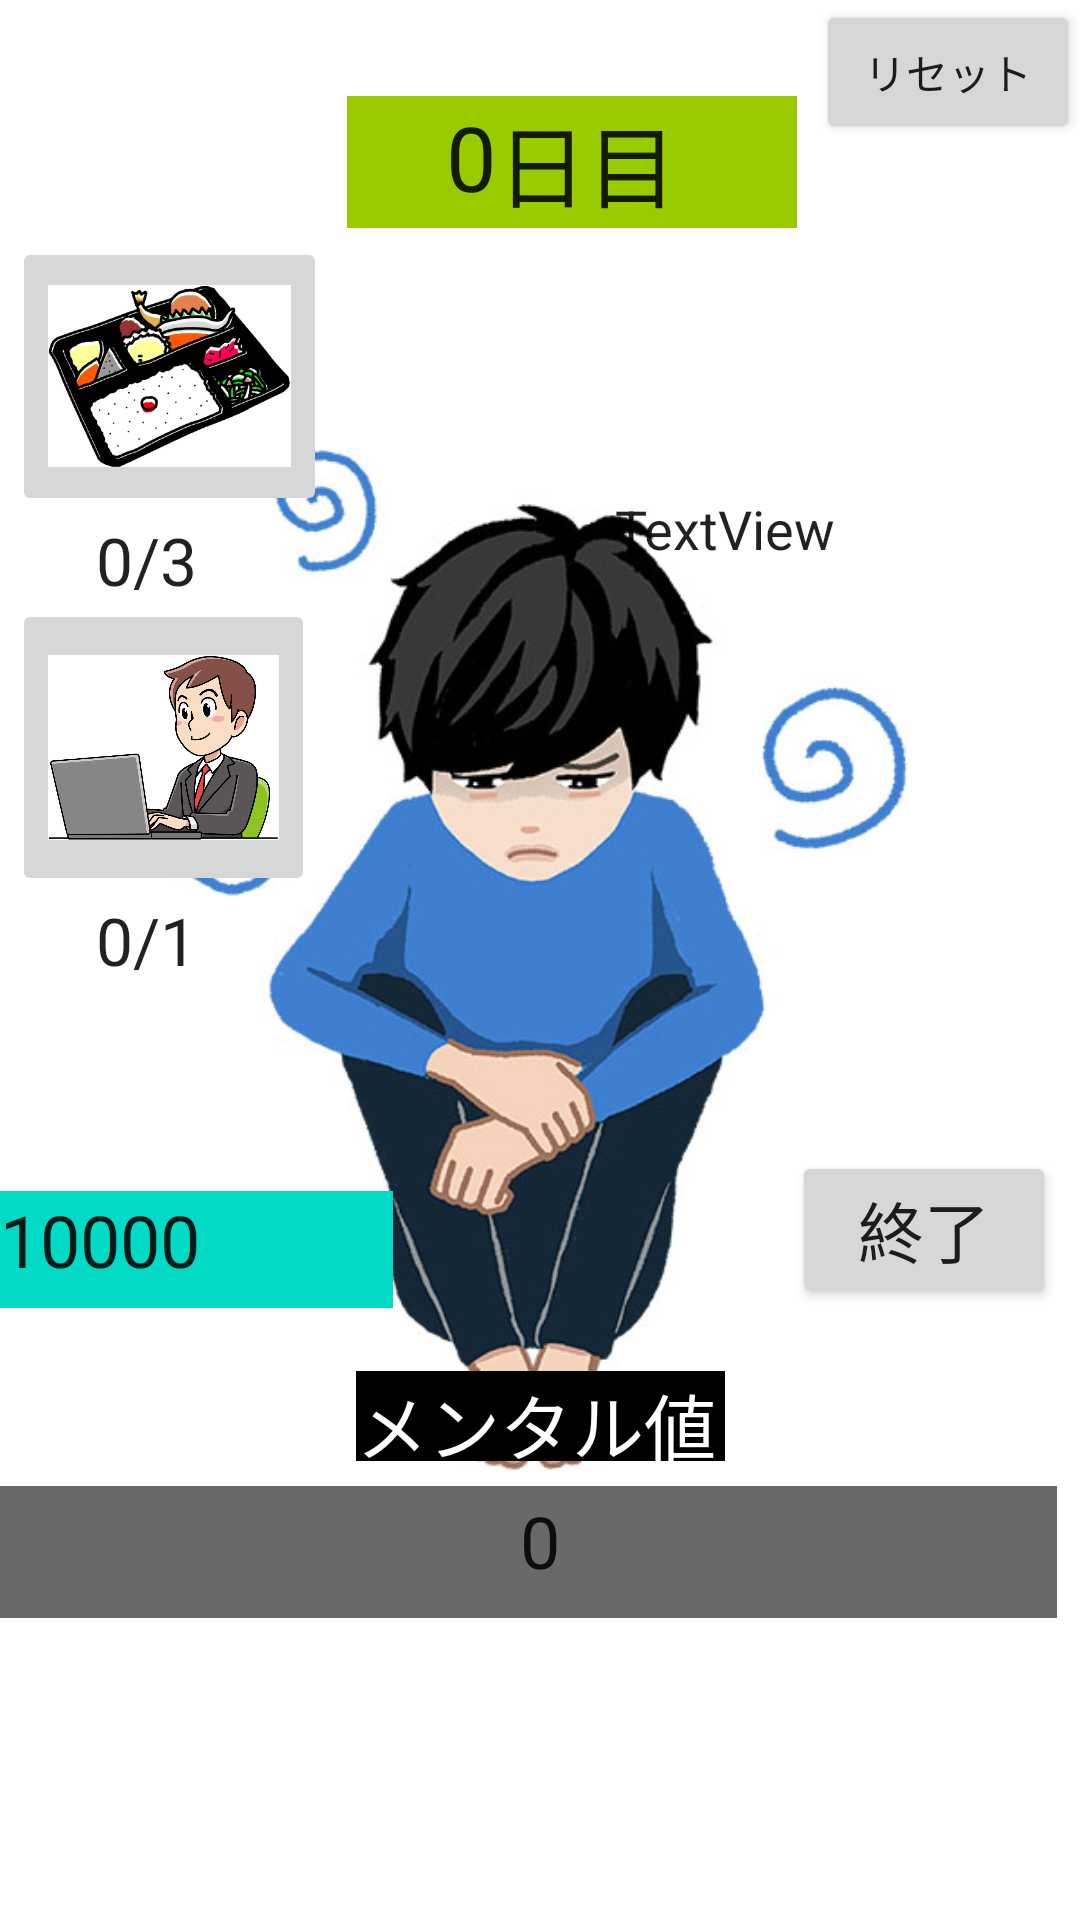

Screen size 1080w x 1920h. Icon name, then its center in pixels as point (x, y):
bentou: point (175, 385)
work: point (163, 756)
